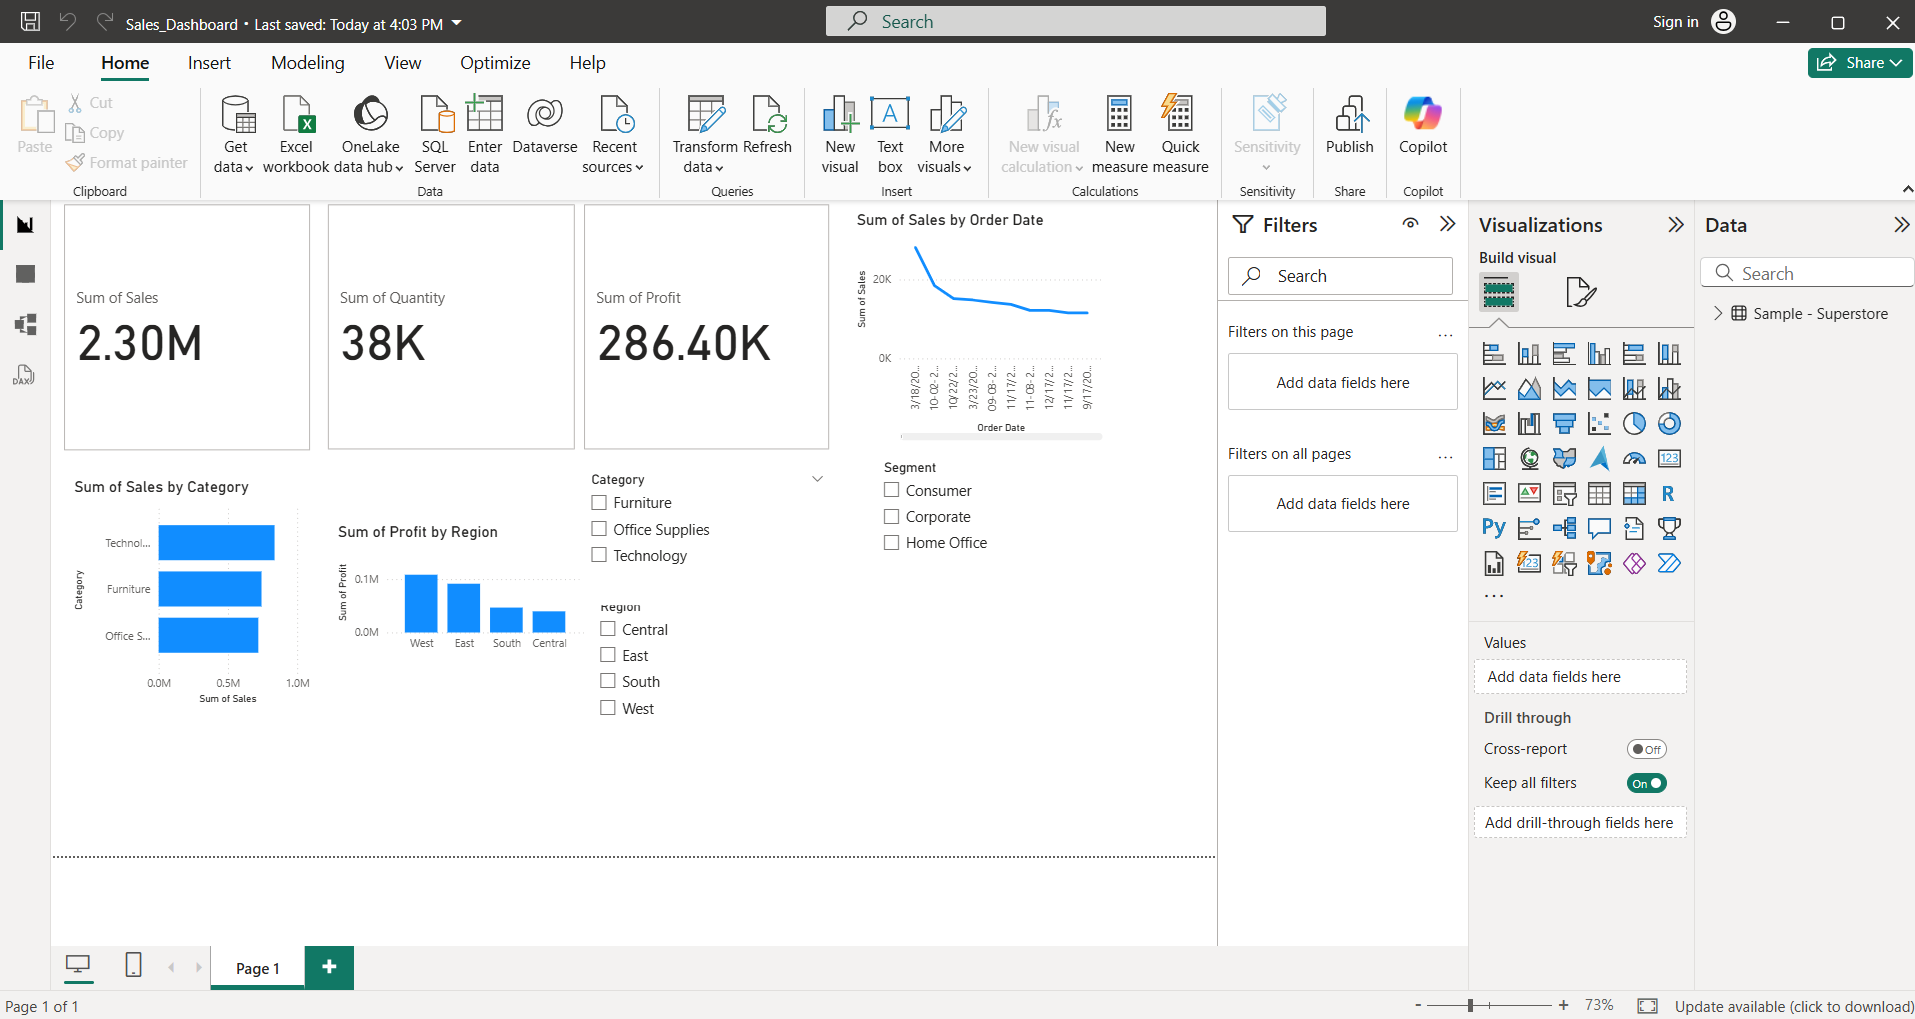

What the dashboard file says about the page in this screenshot:
{"tool":"powerbi","page":{"name":"Page 1","canvas":[1280,720],"ordinal":0},"visuals":[{"type":"cardVisual","fields":{"Data":["Sum(Sample - Superstore.Sales)"]},"box":[10,0,280,280],"z":0},{"type":"cardVisual","fields":{"Data":["Sum(Sample - Superstore.Profit)"]},"box":[580.4,0,279.9,279.9],"z":1000},{"type":"cardVisual","fields":{"Data":["Sum(Sample - Superstore.Quantity)"]},"box":[299.1,0,281.3,279.9],"z":2000},{"type":"lineChart","fields":{"Category":["Sample - Superstore.Order Date"],"Y":["Sum(Sample - Superstore.Sales)"]},"box":[879.6,11,279.9,258],"z":3000},{"type":"clusteredBarChart","fields":{"Category":["Sample - Superstore.Category"],"Y":["Sum(Sample - Superstore.Sales)"]},"box":[20.6,304.6,269,253.9],"z":3001},{"type":"clusteredColumnChart","fields":{"Category":["Sample - Superstore.Region"],"Y":["Sum(Sample - Superstore.Profit)"]},"box":[310.1,354,279.9,150.9],"z":3002},{"type":"slicer","fields":{"Values":["Sample - Superstore.Region"]},"box":[590.1,432.2,279.9,150.9],"z":3004},{"type":"slicer","fields":{"Values":["Sample - Superstore.Category"]},"box":[580.4,293.7,279.9,150.9],"z":3005},{"type":"slicer","fields":{"Values":["Sample - Superstore.Segment"]},"box":[901.5,279.9,279.9,150.9],"z":3006}]}

Visuals, with their boxes on the page's 1280x720 design canvas (x1, y1, x2, y2). These are canvas units, not pixel positions in the 1915x1019 screenshot, which may show the page scaled, cropped or inside an application window:
cardVisual - Sum(Sample - Superstore.Sales): [10,0,290,280]
cardVisual - Sum(Sample - Superstore.Profit): [580,0,860,280]
cardVisual - Sum(Sample - Superstore.Quantity): [299,0,580,280]
lineChart - Sample - Superstore.Order Date x Sum(Sample - Superstore.Sales): [880,11,1160,269]
clusteredBarChart - Sample - Superstore.Category x Sum(Sample - Superstore.Sales): [21,305,290,558]
clusteredColumnChart - Sample - Superstore.Region x Sum(Sample - Superstore.Profit): [310,354,590,505]
slicer - Sample - Superstore.Region: [590,432,870,583]
slicer - Sample - Superstore.Category: [580,294,860,445]
slicer - Sample - Superstore.Segment: [902,280,1181,431]
